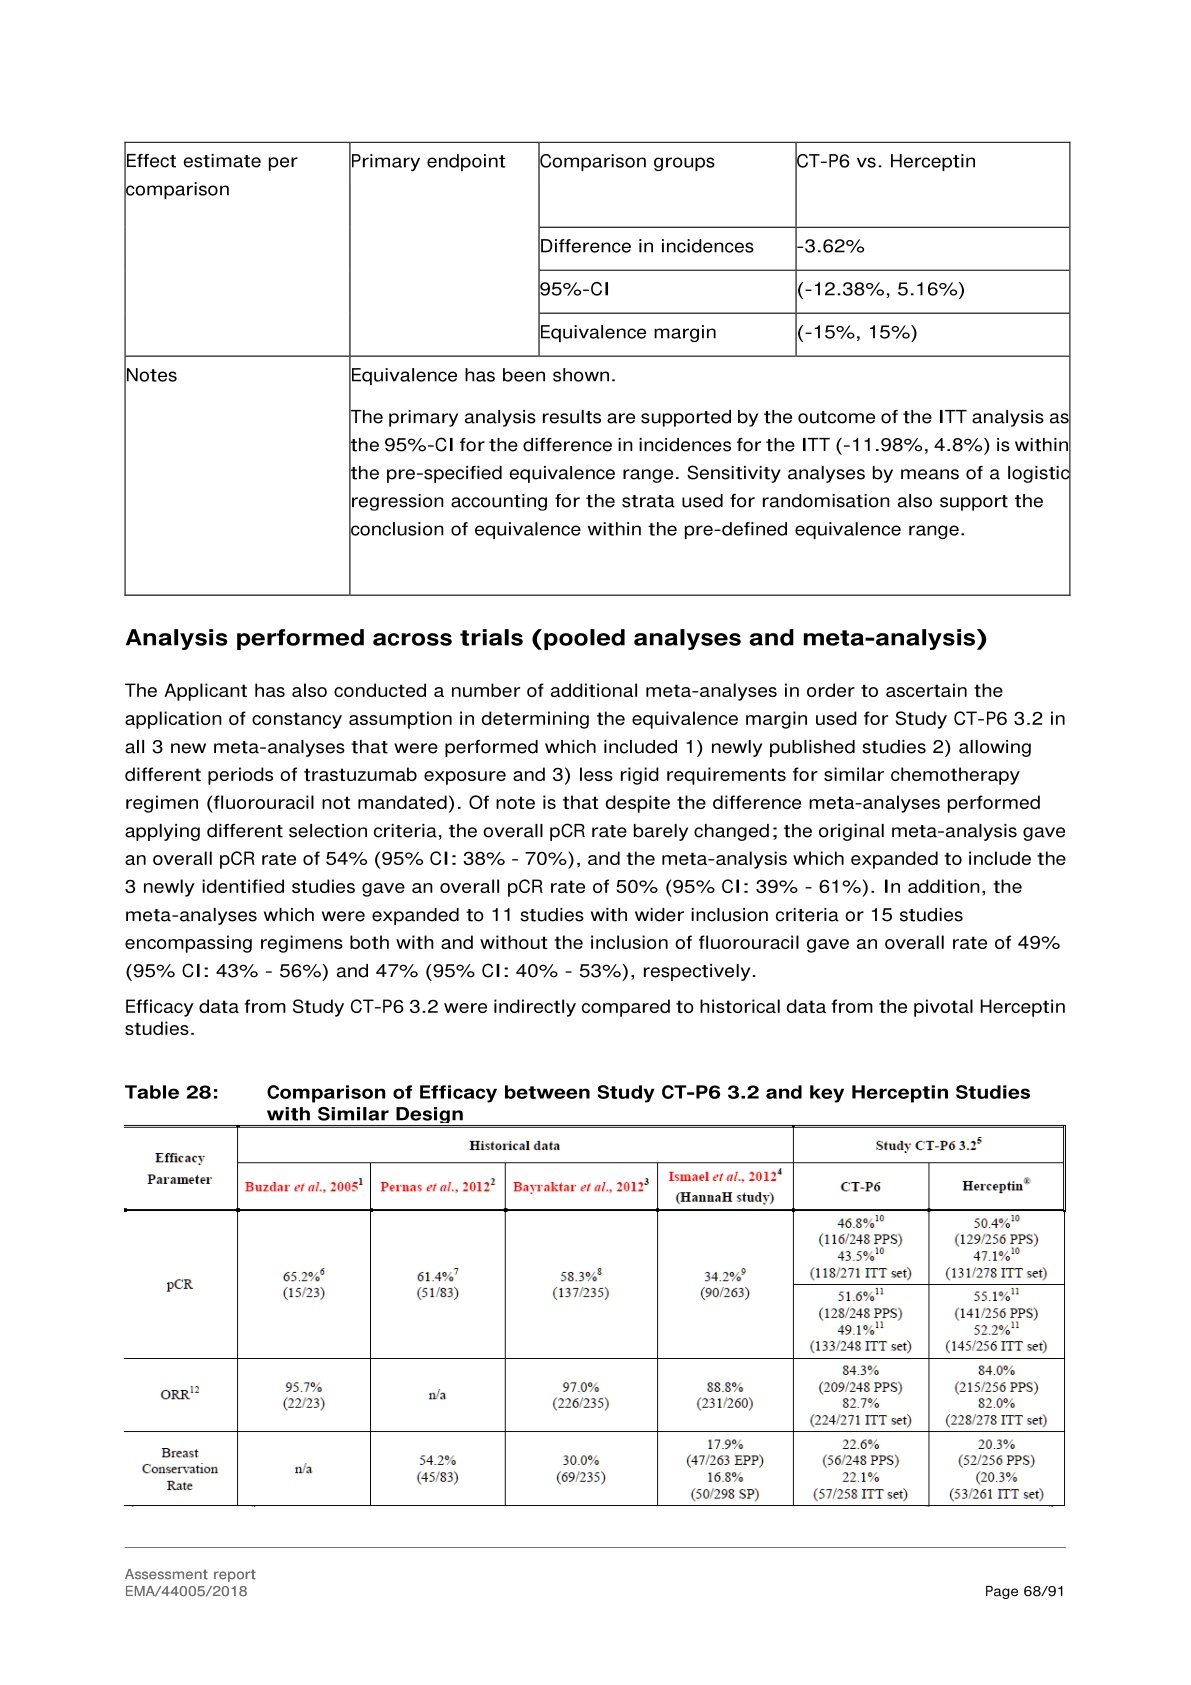merged_cells: (122, 139, 1072, 597)
partial_lined_merged_cells: (121, 1123, 1067, 1507)
